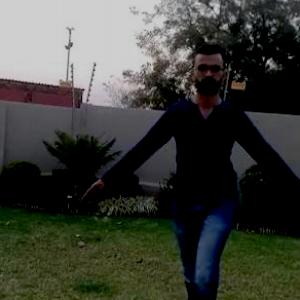land: (127, 68, 299, 299)
